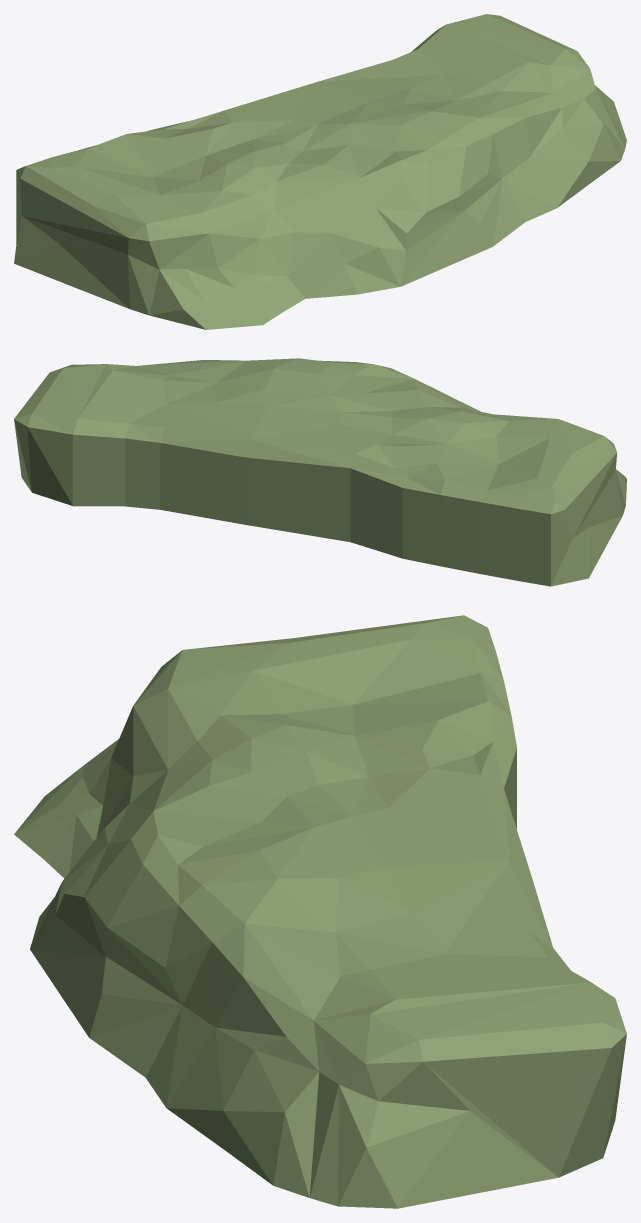
The model's file is Soil-bench3.fbx.
The picture shows the model from 3 angles, top to bottom: view 1: azimuth 30°, elevation 25°; view 2: azimuth 150°, elevation 25°; view 3: azimuth 270°, elevation 25°; orthographic projection. The views are drawn at different scales.
Visible parts, largest first — view 1: Soil-bench3; view 2: Soil-bench3; view 3: Soil-bench3.
Part boxes in pixels (x1,y1,x2,y2): Soil-bench3: (14, 14, 626, 329); Soil-bench3: (14, 358, 626, 586); Soil-bench3: (14, 615, 626, 1208).
Bounding box in the file's own units: 396 × 60.83 × 217.
